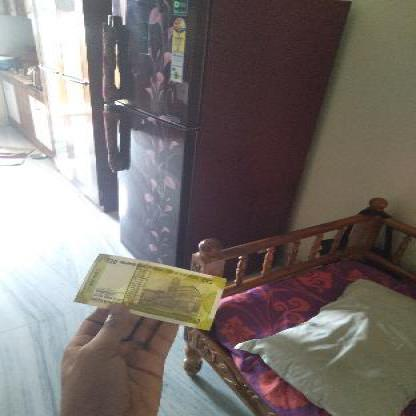New20Back: (71, 250, 225, 330)
